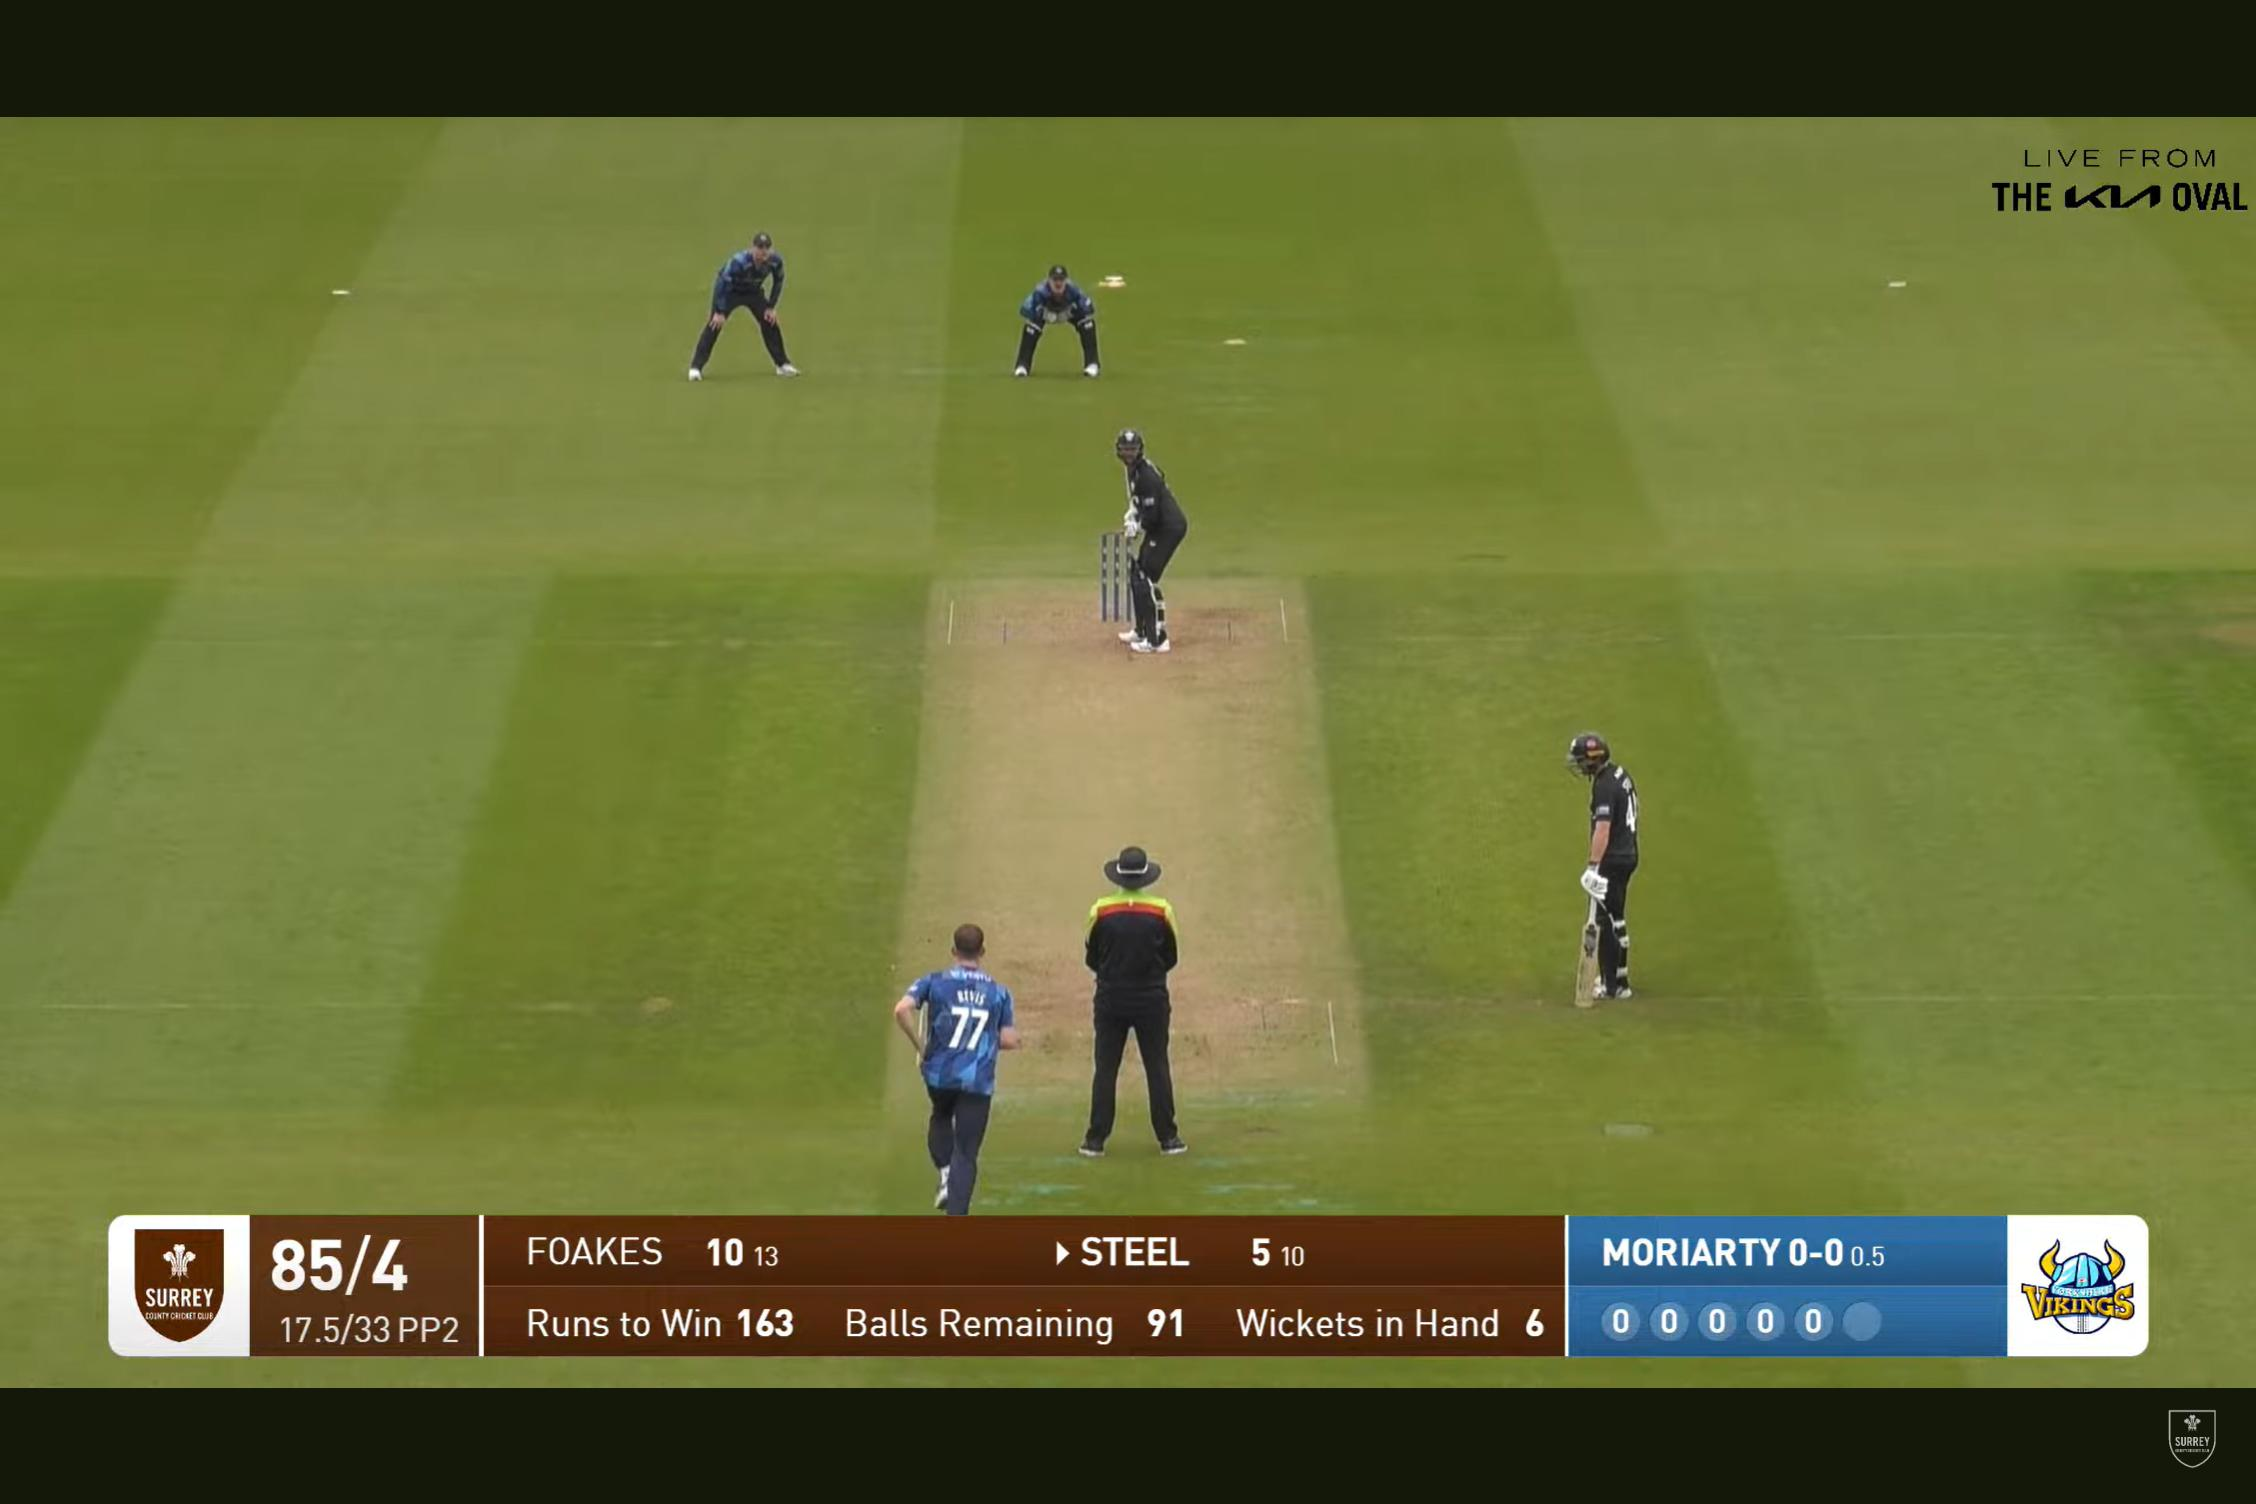batsman: (1081, 418, 1204, 681)
bowler running in: (896, 906, 1017, 1214)
non striker: (1521, 718, 1674, 1027)
umpire: (1069, 817, 1182, 1162)
wicket keeper: (985, 237, 1131, 401)
